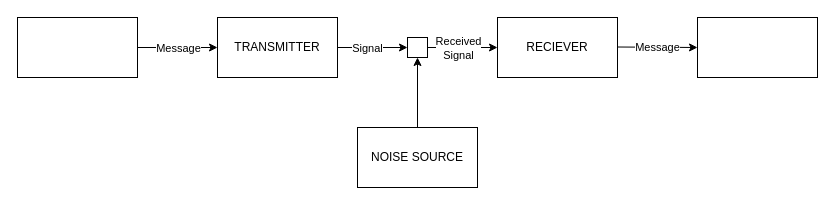
Some shapes in this 835 by 205 pixel diagram are drawn without their labels. The shapes that lost their labels are listed below. From the top down, each one's centre as x and y in pixels, then its label:
point 77,47: INFORMATION SOURCE
point 757,47: DESTINATION
